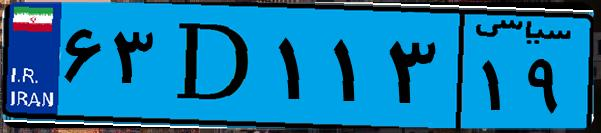1: (270, 28, 330, 110), (330, 28, 385, 110), (475, 38, 525, 113)
3: (385, 28, 445, 110), (110, 28, 158, 98)
6: (57, 26, 110, 100)
9: (525, 38, 570, 115)
D: (158, 12, 270, 120)
